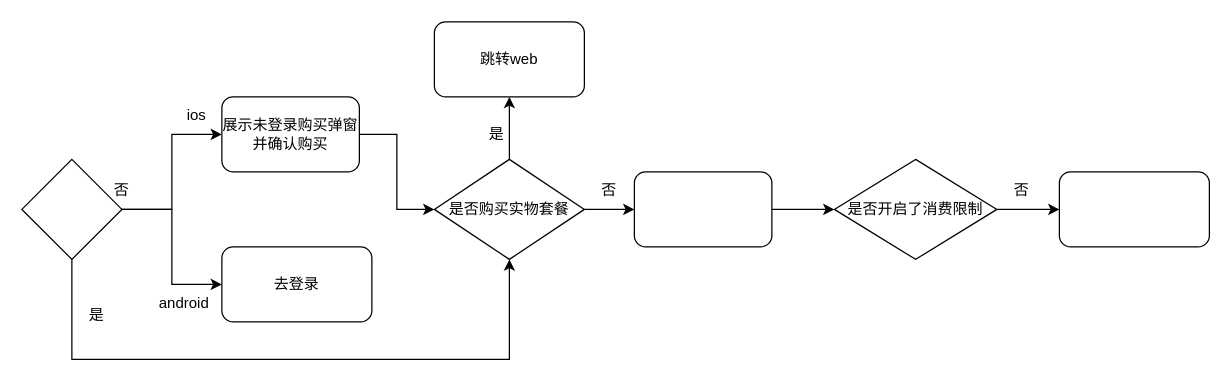
The diagram is 1231 pixels wide and 391 high, and some of its shapes have lost their labels. The box of each missing label's shape, as (x1, y1, x2, y2) in pixels:
展示父母锁 并解锁父母锁: (633, 171, 772, 247)
是否已登录: (21, 158, 122, 259)
